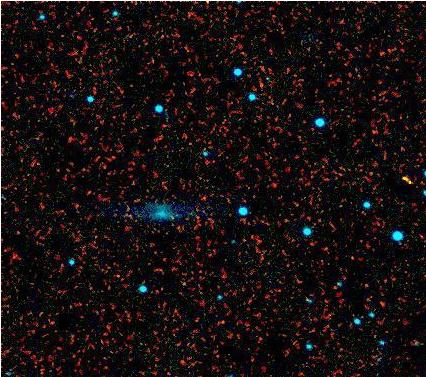star: (391, 165, 421, 195)
